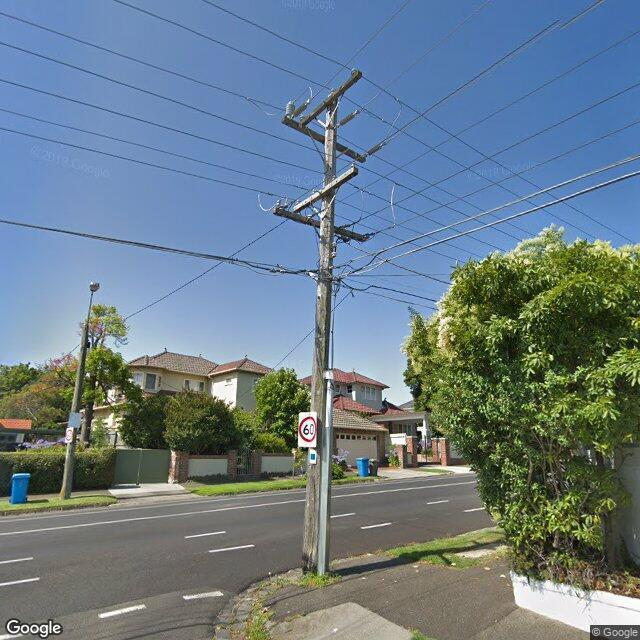HV-transmission: (282, 98, 388, 162)
crossarm: (273, 198, 378, 244), (281, 118, 365, 162), (300, 71, 363, 126), (294, 167, 359, 212)
streetlight: (82, 281, 100, 354)
timber-pole: (301, 93, 339, 578), (60, 324, 89, 500)
